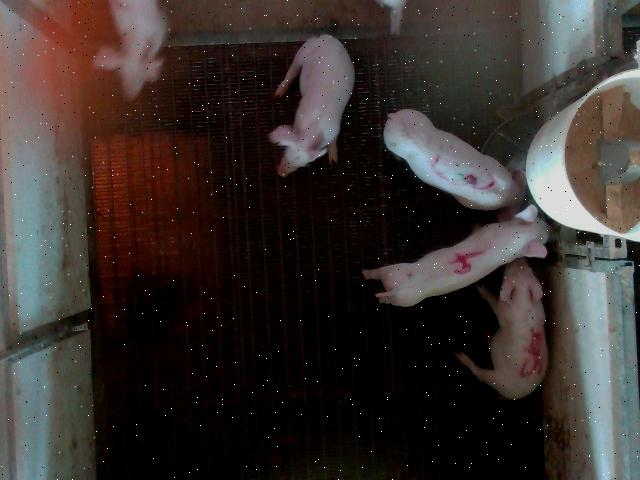pig-3: (384, 109, 525, 210)
pig-4: (362, 206, 549, 306)
pig-5: (456, 259, 548, 399)
